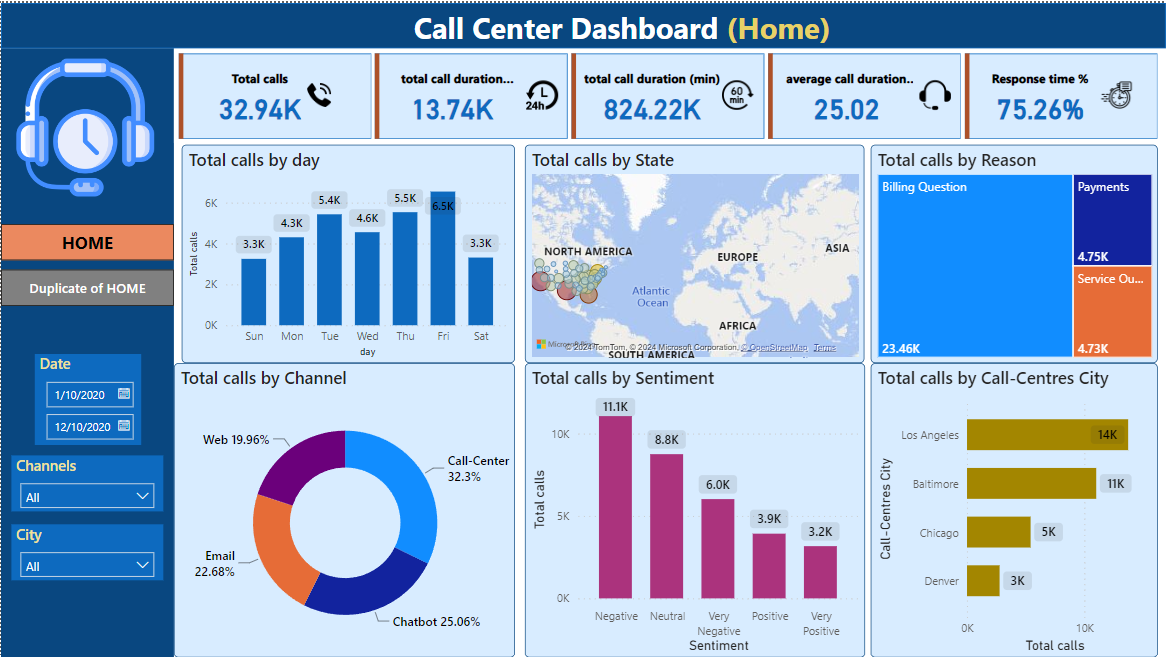

This screenshot's page, from the dashboard's own definition file:
{"tool":"powerbi","page":{"name":"HOME","canvas":[1280,720],"ordinal":0},"visuals":[{"type":"shape","box":[0,0,1280,50],"z":0},{"type":"shape","box":[0,50,190,670],"z":1000},{"type":"cardVisual","fields":{"Data":["Call Center_Call Center (1).Total calls","Call Center_Call Center (1).total call duration (hour)","Call Center_Call Center (1).total call duration (min)","Call Center_Call Center (1).average call duration (min)","Call Center_Call Center (1).Response time %"]},"box":[190,50,1090,104],"z":2000},{"type":"textbox","box":[448.6,0,500,54.3],"z":3000},{"type":"columnChart","fields":{"Category":["date table.day"],"Y":["Call Center_Call Center (1).Total calls"]},"box":[198.8,155,366.2,240],"z":4000},{"type":"map","fields":{"Category":["Call Center_Call Center (1).State"],"Size":["Call Center_Call Center (1).Total calls"]},"box":[575,155,373.3,240],"z":5000},{"type":"treemap","fields":{"Group":["Call Center_Call Center (1).Reason"],"Values":["Call Center_Call Center (1).Total calls"]},"box":[955.6,155.6,315.6,240],"z":6000},{"type":"donutChart","fields":{"Category":["Call Center_Call Center (1).Channel"],"Y":["Call Center_Call Center (1).Total calls"]},"box":[190,395,375,325],"z":7000},{"type":"columnChart","fields":{"Category":["Call Center_Call Center (1).Sentiment"],"Y":["Call Center_Call Center (1).Total calls"]},"box":[575,395,373.8,325],"z":8000},{"type":"barChart","fields":{"Category":["Call Center_Call Center (1).Call-Centres City"],"Y":["Call Center_Call Center (1).Total calls"]},"box":[955.6,395.6,315.6,324.4],"z":9000},{"type":"slicer","title":"Date","fields":{"Values":["date table.Date"]},"box":[36.7,385,116.7,100],"z":10000},{"type":"slicer","title":"Channels","fields":{"Values":["Call Center_Call Center (1).Channel"]},"box":[11.7,496.7,166.7,61.7],"z":11000},{"type":"slicer","title":"City","fields":{"Values":["Call Center_Call Center (1).City"]},"box":[11.7,573.3,166.7,61.7],"z":12000},{"type":"image","box":[11.7,55,161.7,161.7],"z":13000},{"type":"pageNavigator","box":[0,243.3,190,90],"z":14000}]}

Visuals, with their boxes in screenshot pixels (x1, y1, x2, y2), scaled from the page's 1280x720 canvas onto the 1166x657 screenshot:
shape: 0, 0, 1165, 46
shape: 0, 46, 173, 656
cardVisual - Call Center_Call Center (1).Total calls x Call Center_Call Center (1).total call duration (hour): 173, 46, 1165, 141
textbox: 409, 0, 864, 50
columnChart - date table.day x Call Center_Call Center (1).Total calls: 181, 141, 515, 360
map - Call Center_Call Center (1).State x Call Center_Call Center (1).Total calls: 524, 141, 864, 360
treemap - Call Center_Call Center (1).Reason x Call Center_Call Center (1).Total calls: 870, 142, 1158, 361
donutChart - Call Center_Call Center (1).Channel x Call Center_Call Center (1).Total calls: 173, 360, 515, 656
columnChart - Call Center_Call Center (1).Sentiment x Call Center_Call Center (1).Total calls: 524, 360, 864, 656
barChart - Call Center_Call Center (1).Call-Centres City x Call Center_Call Center (1).Total calls: 870, 361, 1158, 656
"Date" slicer: 33, 351, 140, 443
"Channels" slicer: 11, 453, 163, 510
"City" slicer: 11, 523, 163, 579
image: 11, 50, 158, 198
pageNavigator: 0, 222, 173, 304
